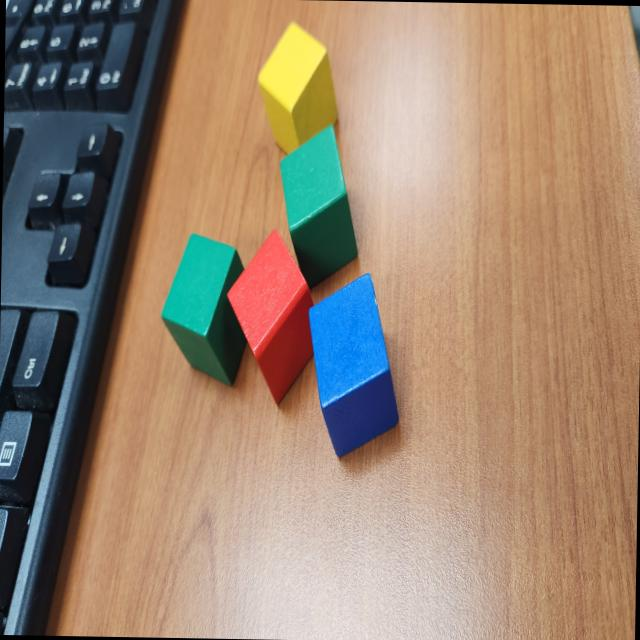blue: (306, 270, 402, 460)
green: (158, 233, 258, 387), (276, 123, 362, 292)
red: (224, 226, 324, 406)
yellow: (254, 21, 342, 160)
